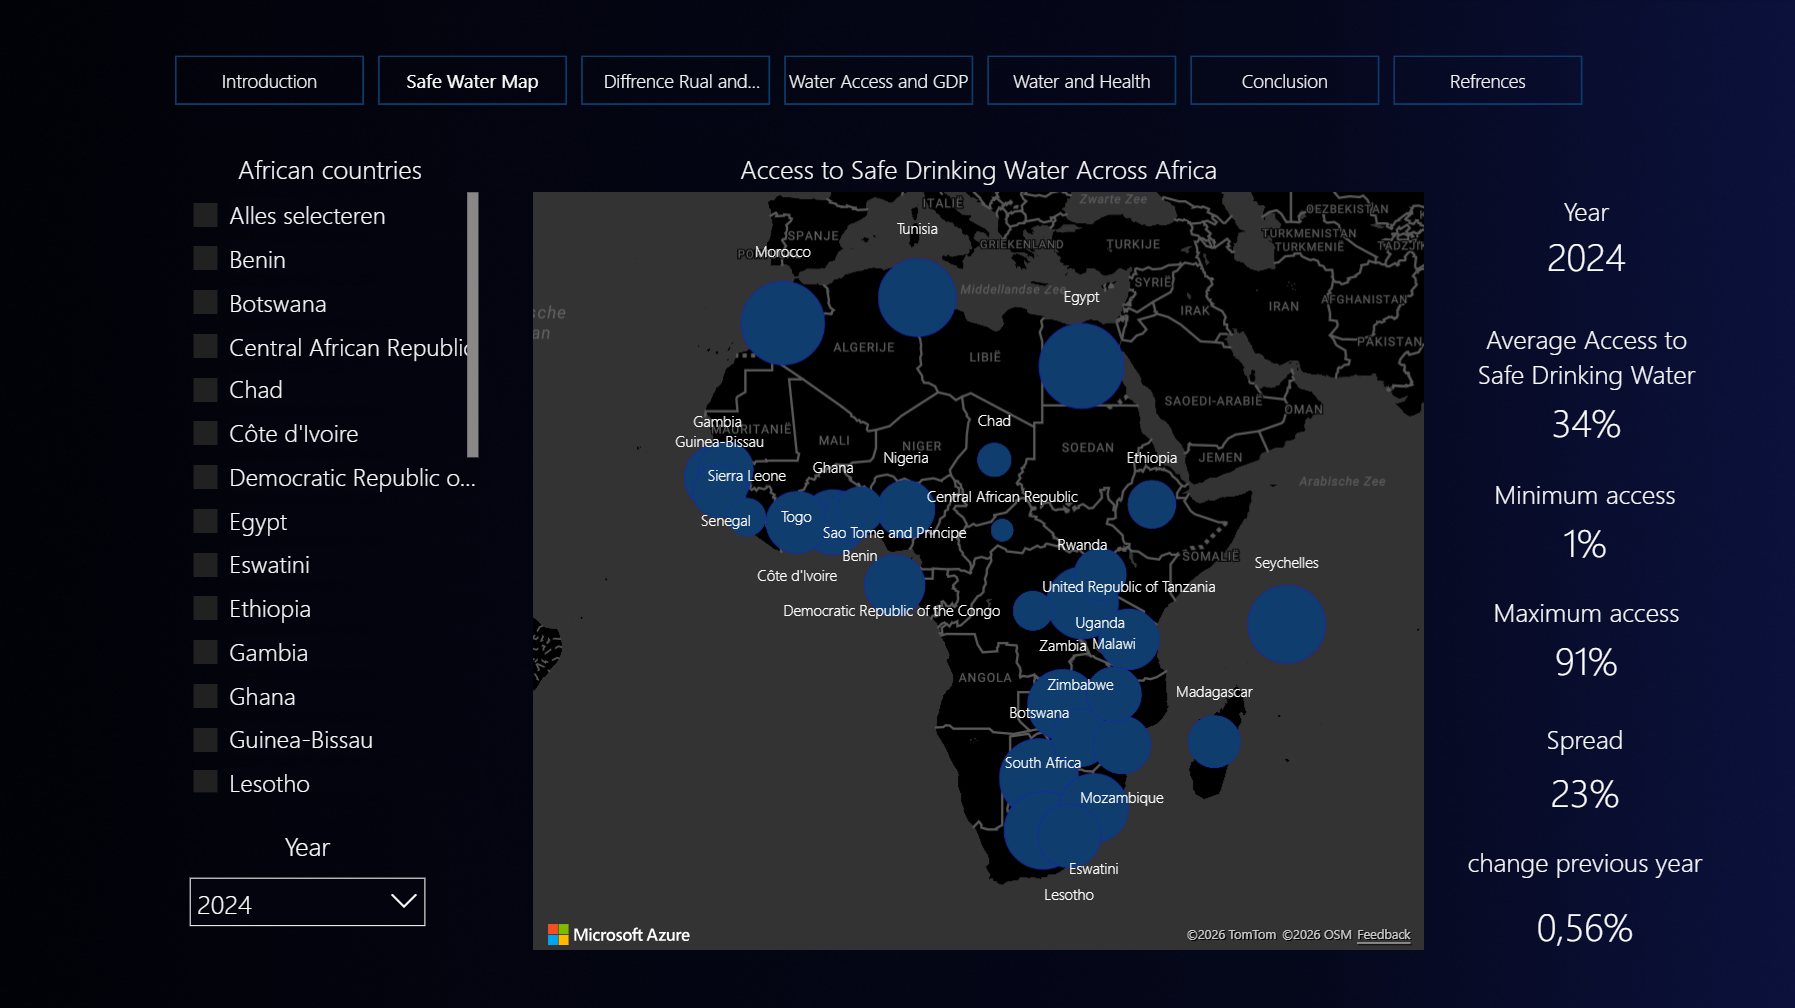

The dashboard page shown, as its layout file describes it:
{"tool":"powerbi","page":{"name":"Safe Water Map","canvas":[1280,720],"ordinal":1},"visuals":[{"type":"azureMap","title":"Access to Safe Drinking Water Across Africa","fields":{"Category":["Record format - UN.GeoAreaName"],"Series":["Record format - UN.Year"],"Size":["Record format - UN.Average_Access_Percentage"]},"box":[376.4,108,641.9,571.9],"z":0},{"type":"slicer","title":"Year","fields":{"Values":["Record format - UN.Year"]},"box":[127.4,588.4,187.7,101.2],"z":1000},{"type":"slicer","title":"African countries","fields":{"Values":["Record format - UN.GeoAreaName"]},"box":[127.4,108,219.8,460.1],"z":2000},{"type":"card","title":"Year","fields":{"Values":["Calculations.Selected Year"]},"box":[1046.6,138.1,163.4,68.1],"z":3000},{"type":"card","title":"Average Access to Safe Drinking Water","fields":{"Values":["Calculations.Avg Water Access %"]},"box":[1035.9,228.6,184.8,97.3],"z":4000},{"type":"card","title":"change previous year","fields":{"Values":["Calculations.Change_Percent"]},"box":[1032,600.1,191.6,94.3],"z":5000},{"type":"card","title":"Minimum access","fields":{"Values":["Calculations.Min_Access"]},"box":[1022.2,338.5,211.1,72.9],"z":6000},{"type":"card","title":"Maximum access","fields":{"Values":["Calculations.Max_Access"]},"box":[1046.6,423.1,163.4,71],"z":7000},{"type":"card","title":"Spread","fields":{"Values":["Calculations.StdDev_Access"]},"box":[1032,512.6,191.6,79.8],"z":8000},{"type":"pageNavigator","box":[127.4,40.9,1000.9,35],"z":9000}]}

Visuals, with their boxes on the page's 1280x720 design canvas (x1, y1, x2, y2). These are canvas units, not pixel positions in the 1795x1008 screenshot, which may show the page scaled, cropped or inside an application window:
"Access to Safe Drinking Water Across Africa" azureMap: x1=376, y1=108, x2=1018, y2=680
"Year" slicer: x1=127, y1=588, x2=315, y2=690
"African countries" slicer: x1=127, y1=108, x2=347, y2=568
"Year" card: x1=1047, y1=138, x2=1210, y2=206
"Average Access to Safe Drinking Water" card: x1=1036, y1=229, x2=1221, y2=326
"change previous year" card: x1=1032, y1=600, x2=1224, y2=694
"Minimum access" card: x1=1022, y1=338, x2=1233, y2=411
"Maximum access" card: x1=1047, y1=423, x2=1210, y2=494
"Spread" card: x1=1032, y1=513, x2=1224, y2=592
pageNavigator: x1=127, y1=41, x2=1128, y2=76
